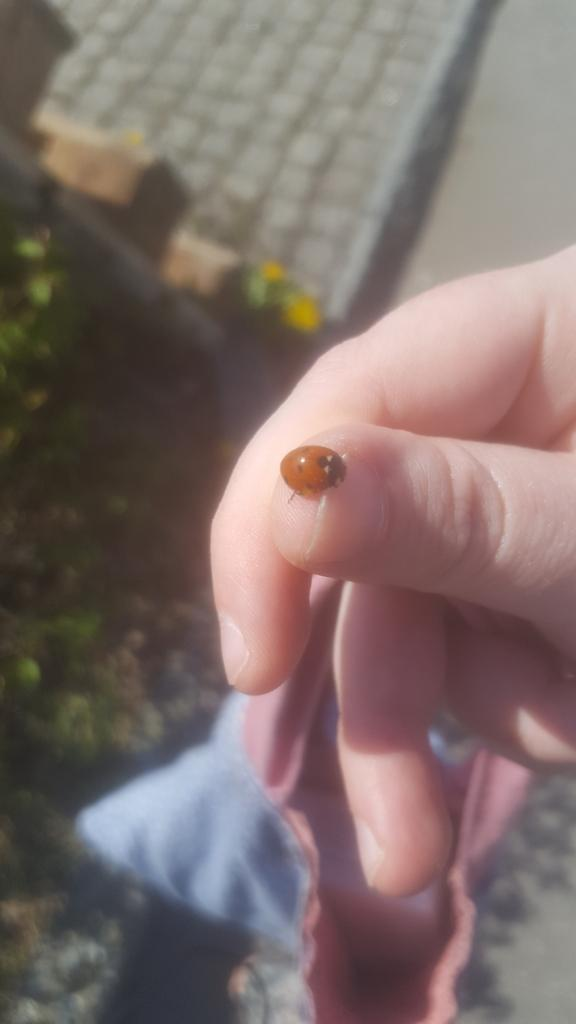ladybug: (279, 444, 351, 509)
